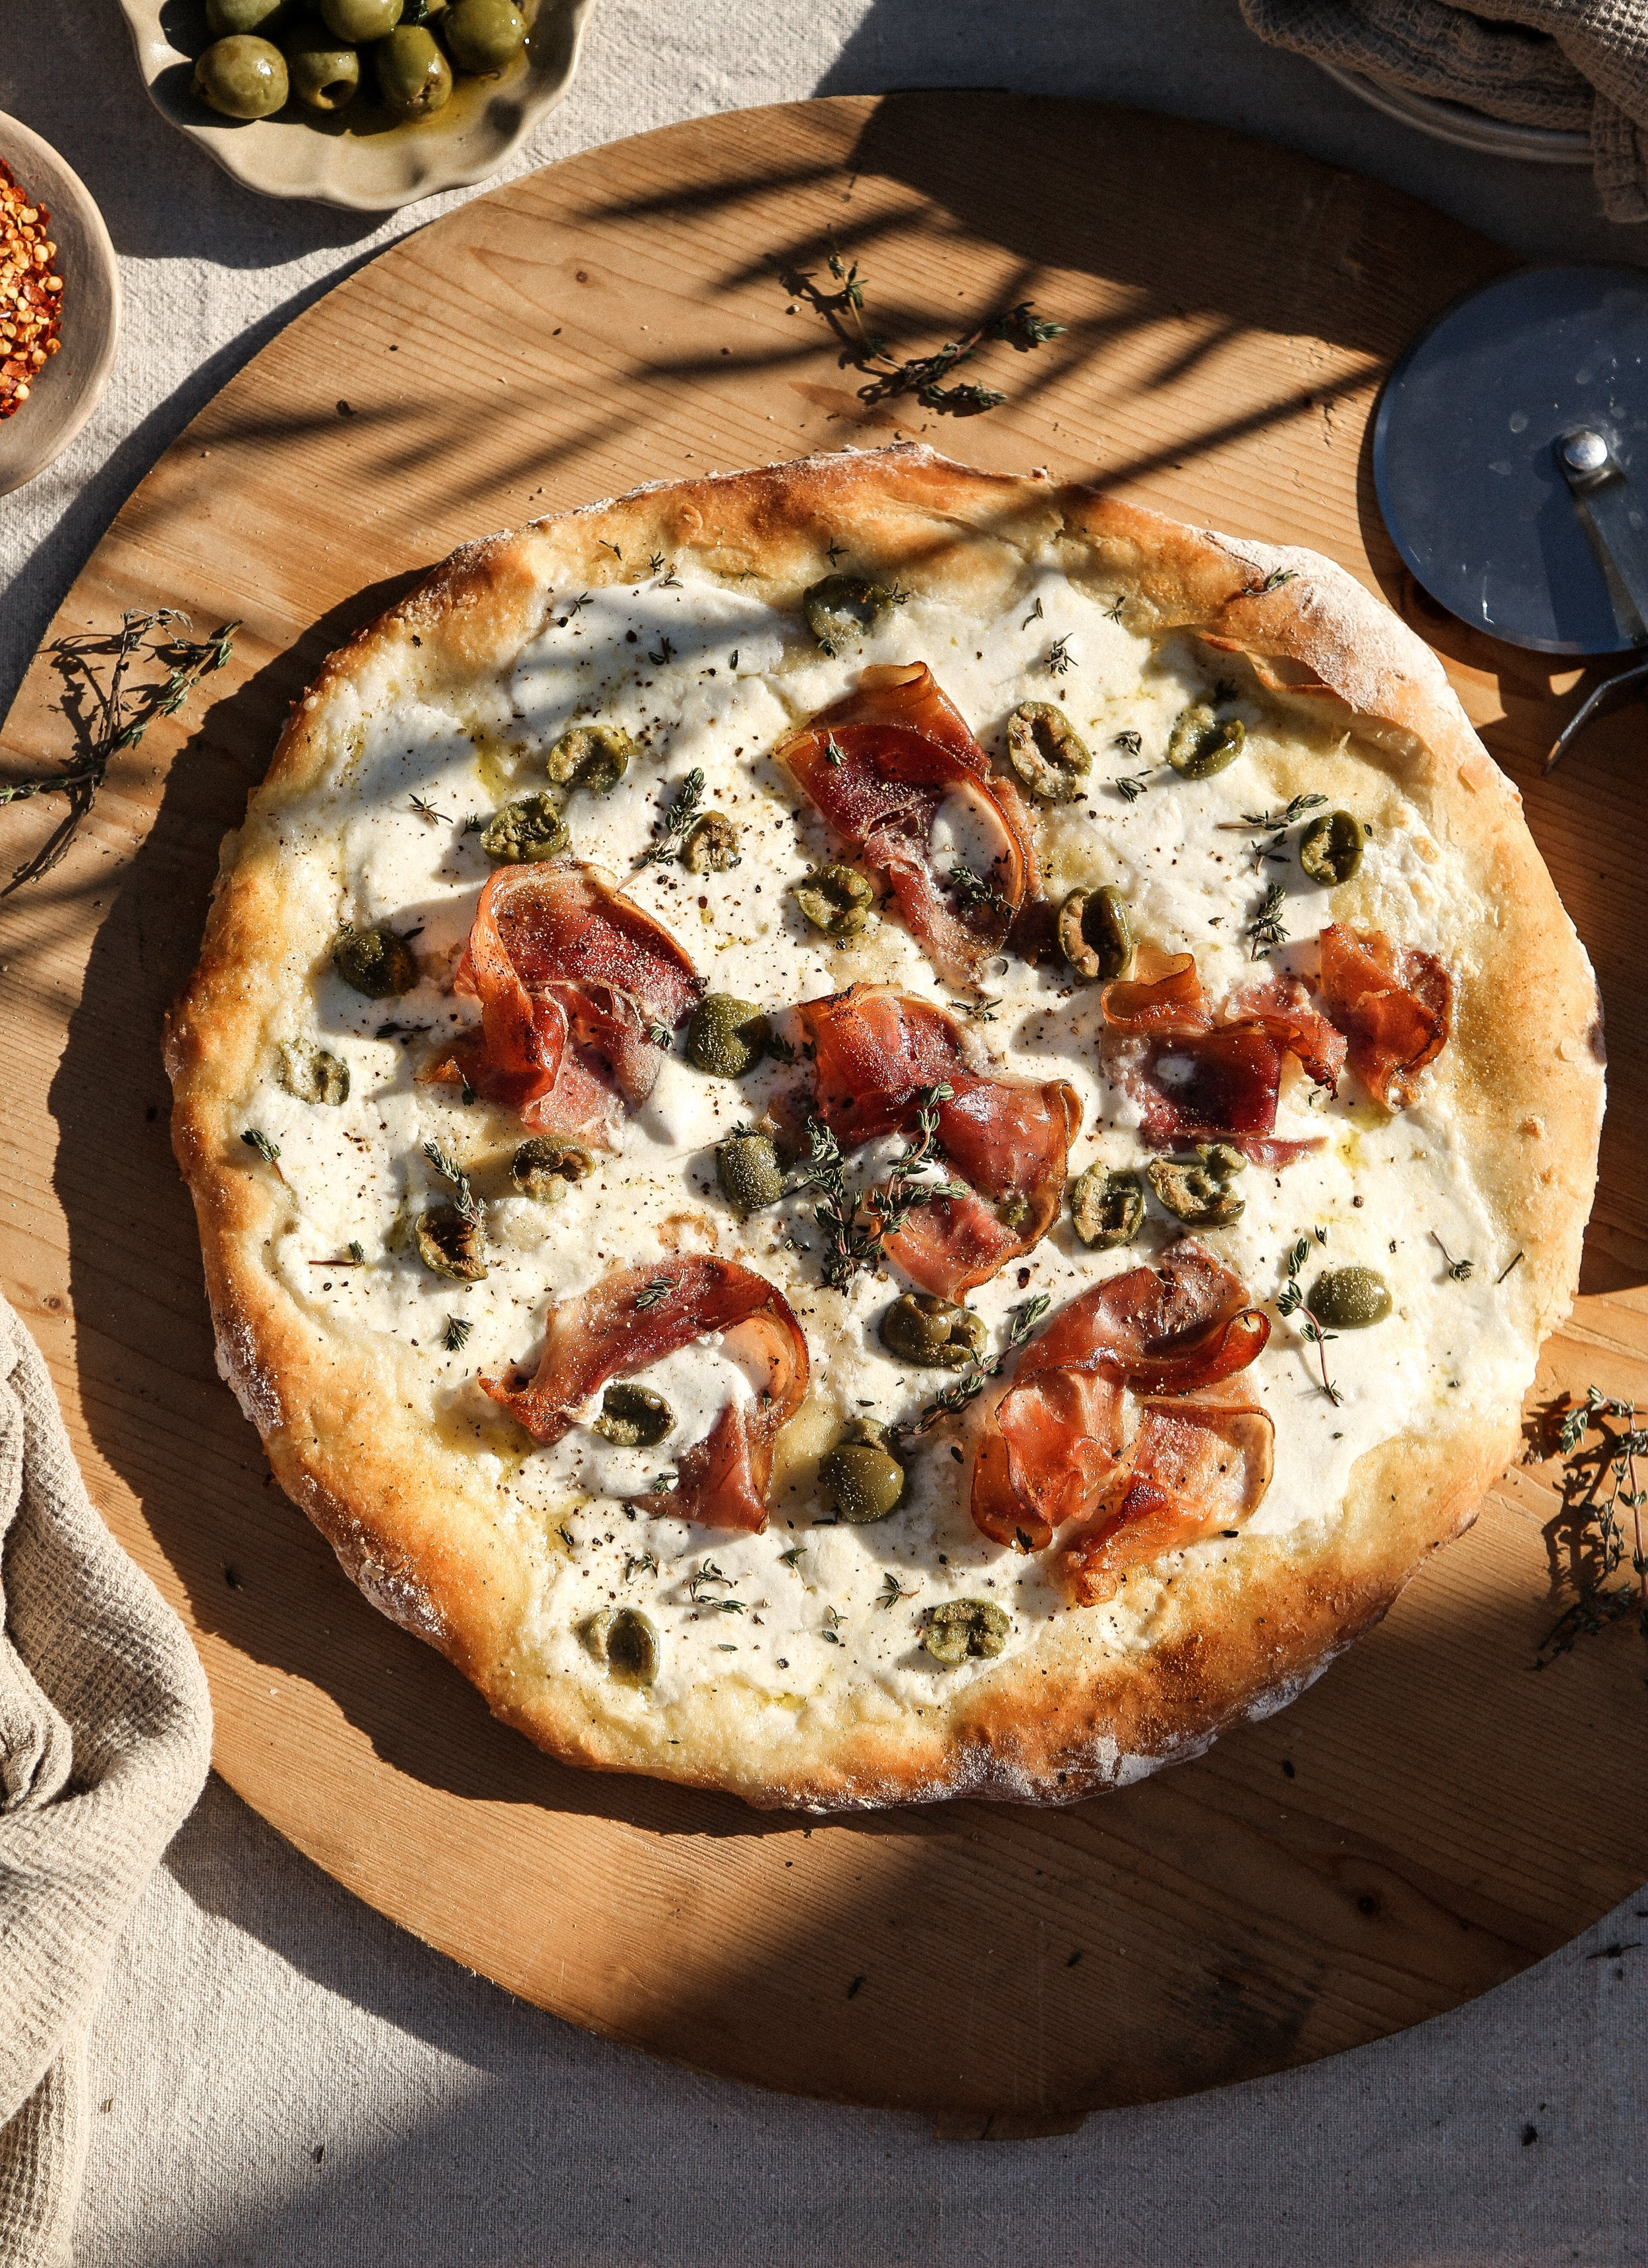Ham: (947, 1255, 1312, 1601), (486, 1241, 812, 1528), (798, 986, 1081, 1303), (771, 655, 1023, 984), (454, 854, 692, 1132), (1100, 947, 1306, 1138), (1291, 907, 1449, 1116)
Olives: (977, 697, 1102, 796), (671, 984, 771, 1079), (798, 565, 903, 655), (819, 1430, 912, 1525), (875, 1294, 991, 1361), (780, 856, 872, 940), (541, 715, 634, 794), (1159, 696, 1248, 775), (903, 1599, 1021, 1659), (1301, 1261, 1398, 1333), (327, 919, 421, 991), (407, 1204, 486, 1284), (579, 1606, 658, 1685), (1053, 893, 1123, 981), (717, 1130, 792, 1211), (282, 1037, 357, 1116), (1153, 1159, 1252, 1219), (1067, 1176, 1139, 1254), (481, 792, 569, 856), (581, 1382, 674, 1439), (664, 808, 739, 875), (504, 1136, 593, 1192), (1299, 808, 1359, 882)
Pizza: (155, 447, 1608, 1807)
